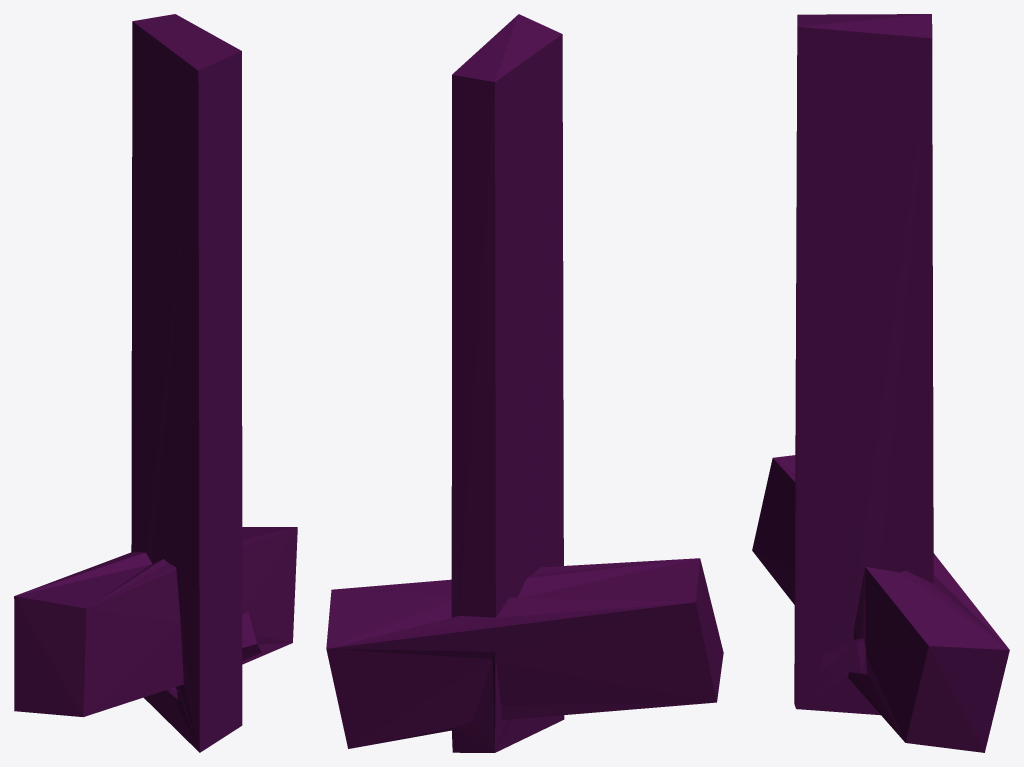
3 views of the same model, side by side, from view 1: azimuth 30°, elevation 25°; view 2: azimuth 150°, elevation 25°; view 3: azimuth 270°, elevation 25° (orthographic).
Visible parts, largest first — view 1: 987_Cube.3981; view 2: 987_Cube.3981; view 3: 987_Cube.3981.
Part boxes in pixels (bbox=[...]): 987_Cube.3981: bbox=[14, 14, 297, 752]; 987_Cube.3981: bbox=[326, 14, 723, 752]; 987_Cube.3981: bbox=[752, 14, 1009, 752].
Bounding box in the file's own units: 6.2 × 12.29 × 4.11.
